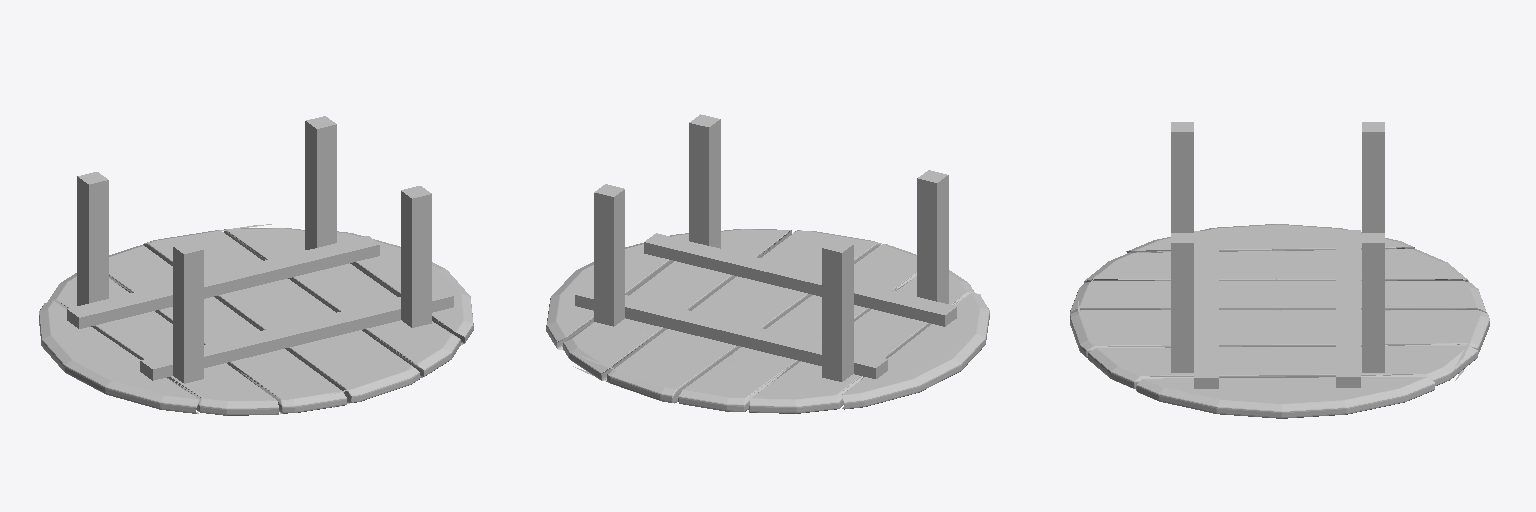
The model's file is tableFinal_2.obj.
The picture shows the model from 3 angles: view 1: azimuth 30°, elevation 25°; view 2: azimuth 150°, elevation 25°; view 3: azimuth 270°, elevation 25°; orthographic projection.
Parts seen in each view (by area): view 1: Cylinder.005, Cube.004_Cube.005, Cube; view 2: Cylinder.005, Cube.004_Cube.005, Cube; view 3: Cylinder.005, Cube.004_Cube.005, Cube.
Part boxes in pixels (x1,y1,x2,y2): Cylinder.005: (39, 224, 473, 415); Cube.004_Cube.005: (77, 116, 431, 383); Cube: (67, 236, 453, 380); Cylinder.005: (546, 229, 989, 413); Cube.004_Cube.005: (594, 114, 948, 381); Cube: (575, 233, 956, 378); Cylinder.005: (1070, 224, 1489, 418); Cube.004_Cube.005: (1171, 122, 1384, 372); Cube: (1194, 230, 1360, 388).
Bounding box in the file's own units: 2.21 × 0.7929 × 2.09.